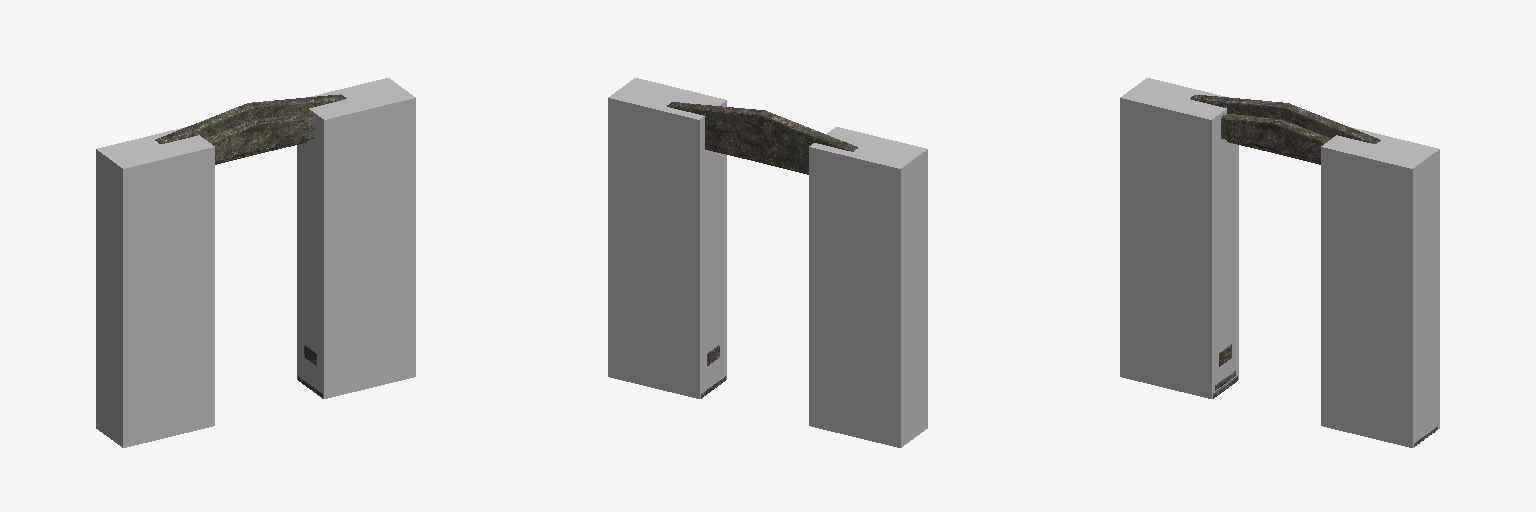
3 views of the same model, side by side, from view 1: azimuth 30°, elevation 25°; view 2: azimuth 150°, elevation 25°; view 3: azimuth 330°, elevation 25° (orthographic).
Visible parts, largest first — view 1: cBox_Portal_Cube.053, cBox_Portal.001_Cube.052, Portal_Cube.016; view 2: cBox_Portal_Cube.053, cBox_Portal.001_Cube.052, Portal_Cube.016; view 3: cBox_Portal.001_Cube.052, cBox_Portal_Cube.053, Portal_Cube.016.
Part boxes in pixels (left/top/right/bottom): cBox_Portal_Cube.053: left=96, top=127, right=214, bottom=447; cBox_Portal.001_Cube.052: left=297, top=78, right=415, bottom=398; Portal_Cube.016: left=155, top=94, right=346, bottom=398; cBox_Portal_Cube.053: left=809, top=127, right=927, bottom=447; cBox_Portal.001_Cube.052: left=608, top=78, right=726, bottom=398; Portal_Cube.016: left=667, top=102, right=857, bottom=398; cBox_Portal.001_Cube.052: left=1321, top=127, right=1439, bottom=447; cBox_Portal_Cube.053: left=1120, top=78, right=1238, bottom=398; Portal_Cube.016: left=1190, top=95, right=1437, bottom=446.
Size of the model in its own units: 8.25 by 7.96 by 1.35.
Materials: 2 (1 with a texture image).